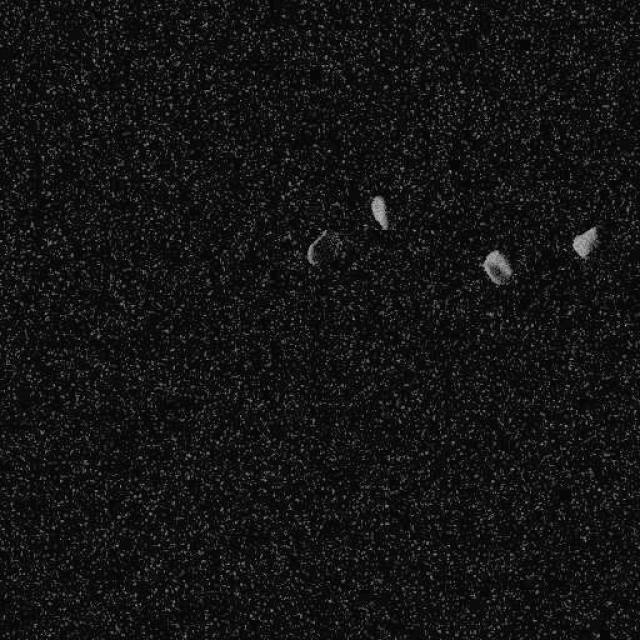D2: (480, 249, 512, 285), (570, 225, 599, 259), (305, 229, 327, 266), (369, 194, 389, 230)
